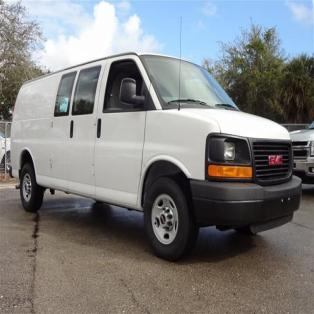Auto: (9, 50, 303, 260)
